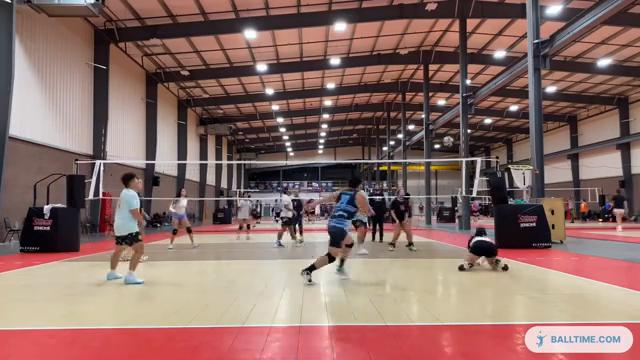Dig: (456, 221, 512, 273)
Player: (301, 177, 368, 283), (106, 172, 144, 284), (168, 189, 198, 249), (389, 188, 416, 250), (275, 189, 303, 246), (352, 202, 374, 254), (369, 186, 386, 241), (237, 193, 251, 239), (292, 193, 303, 239), (120, 247, 133, 261)
ball: (443, 135, 453, 147)
